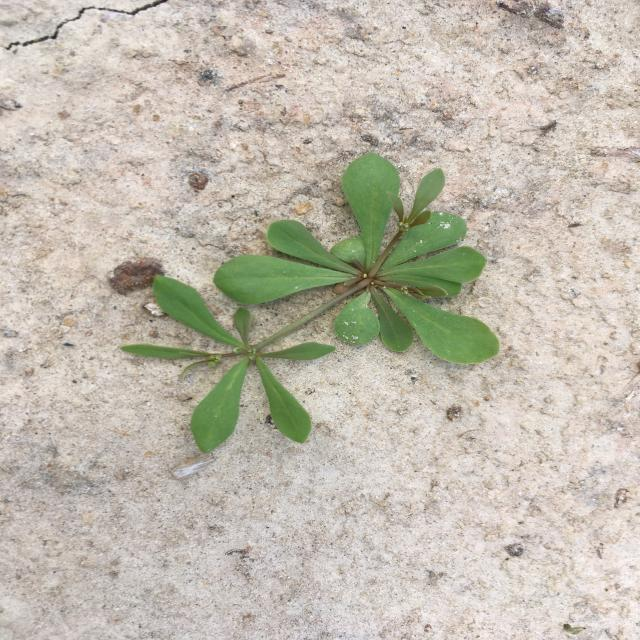Carpetweed: (120, 153, 501, 454)
